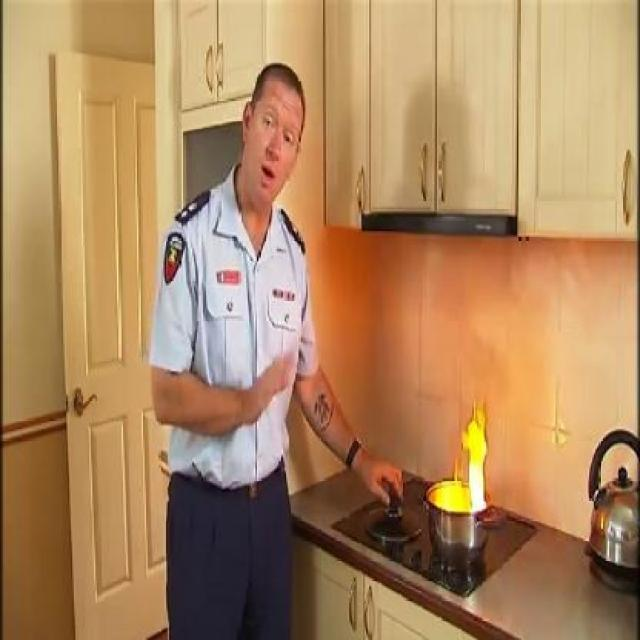fire: (456, 400, 496, 517)
